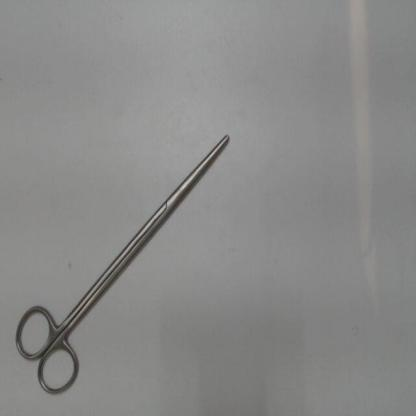9 Metzenbaum Scissors: (10, 131, 234, 401)
